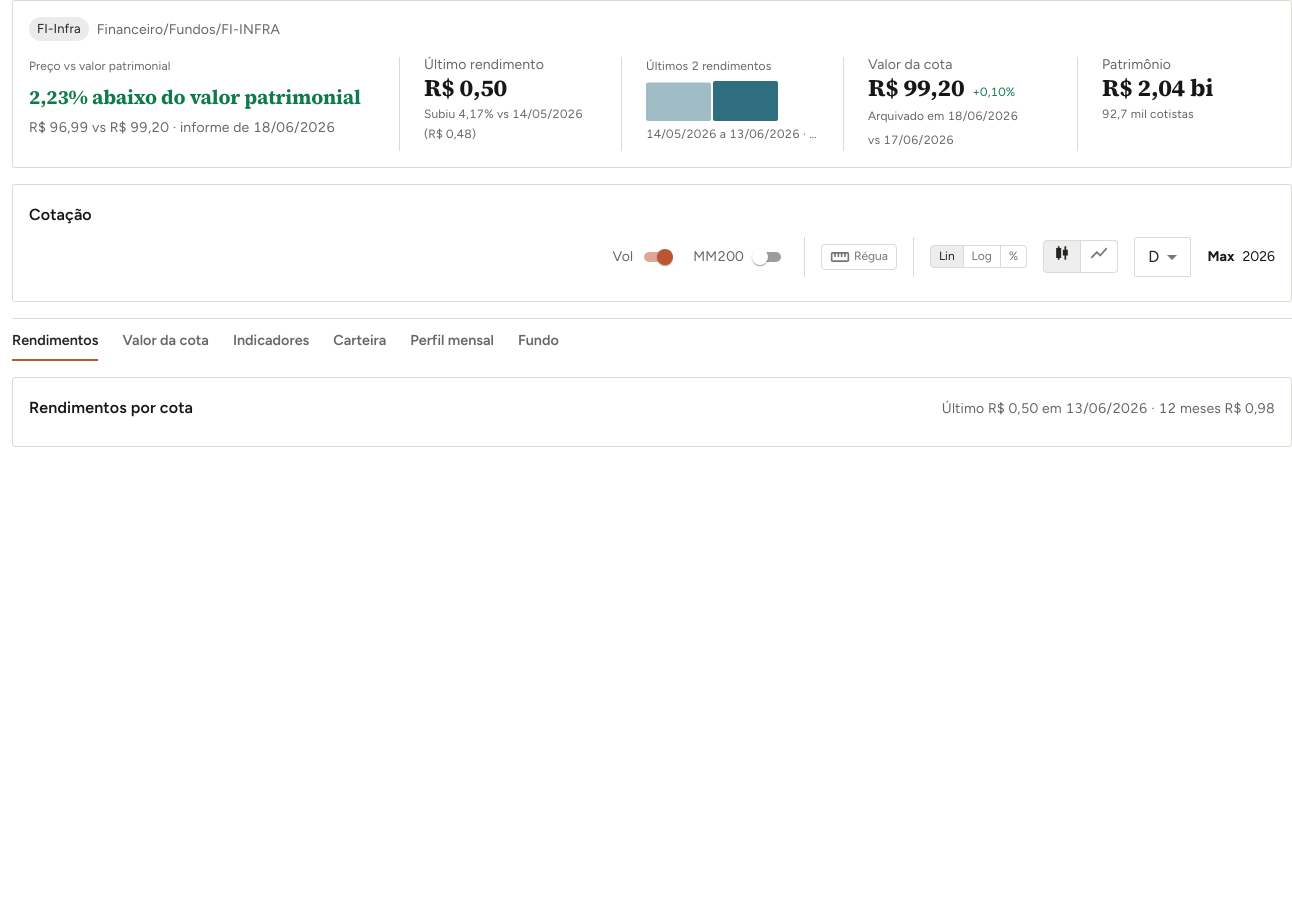
Scenario: InvestmentFundMarketView › swaps the panel below when another section is chosen
Click the tab "Carteira" at (360, 340), box [333,318,386,360]
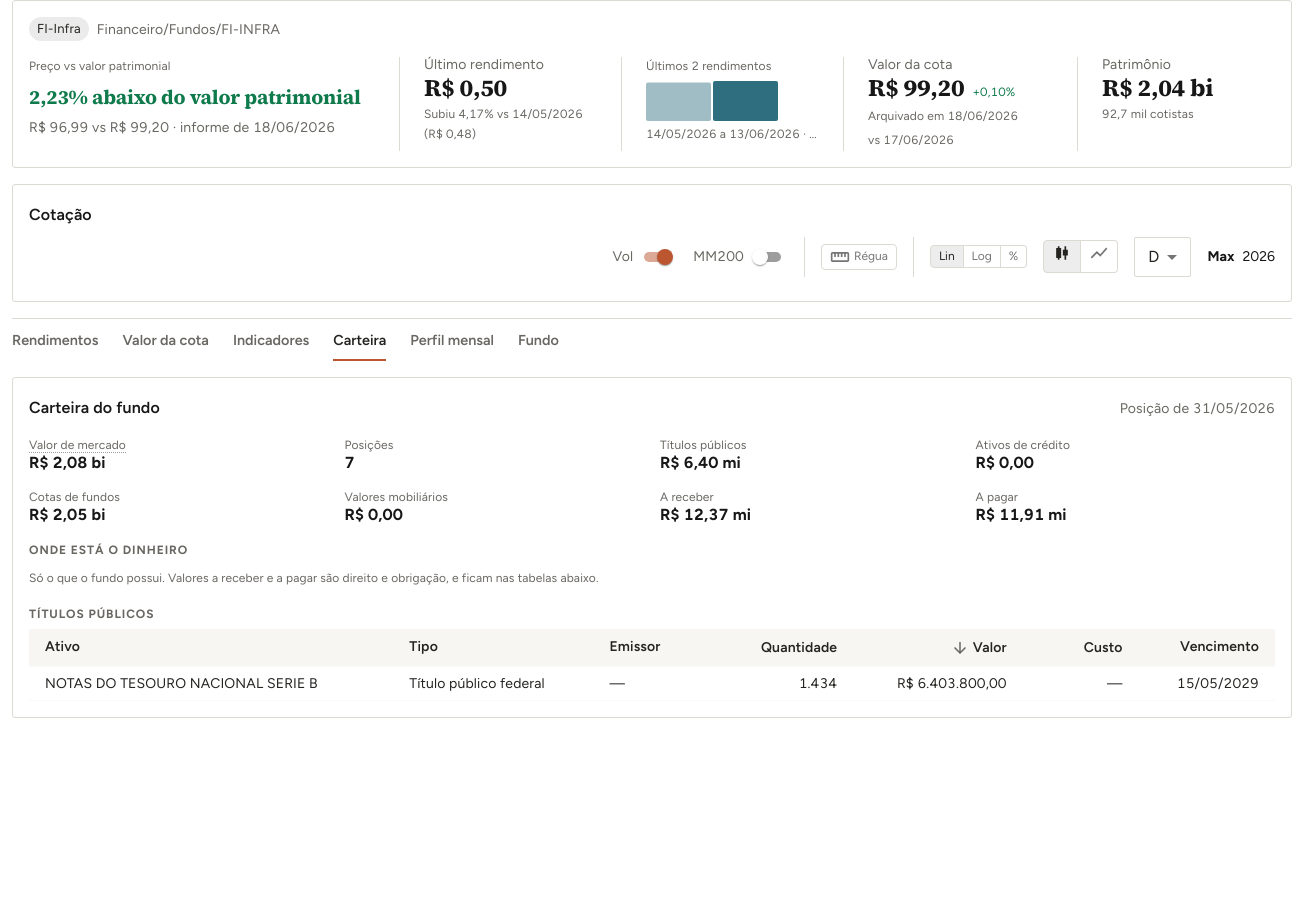
Now the heading "Carteira do fundo" is shown, box [29,394,160,422]
Now the heading "Rendimentos por cota" is gone
